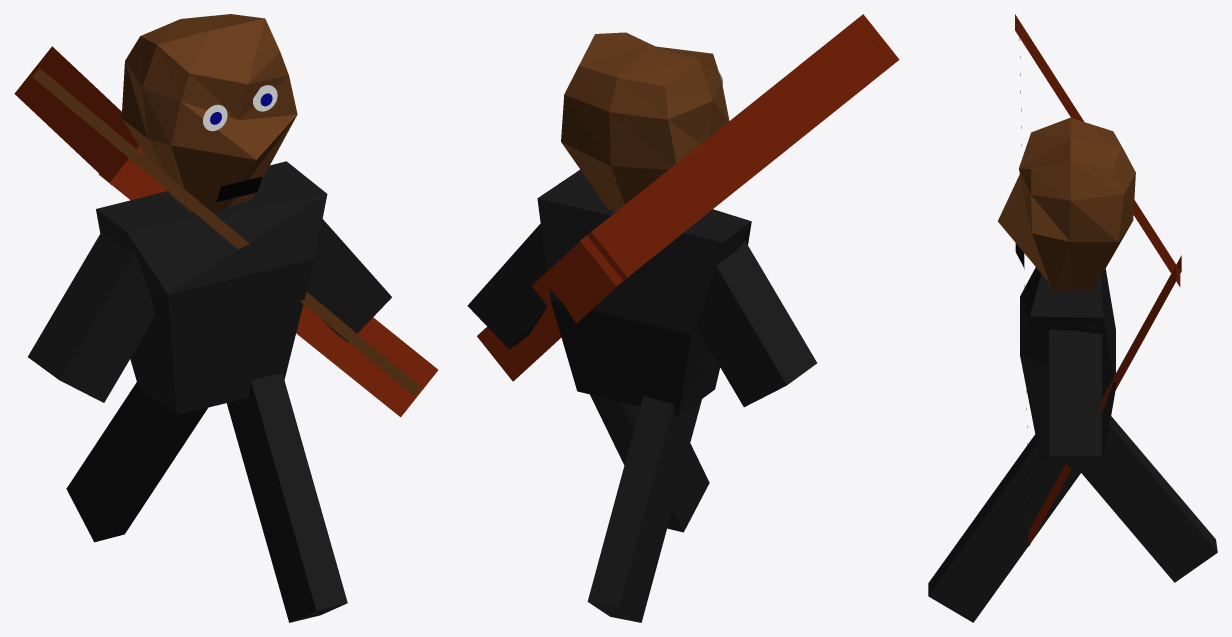
Rendered from heavyarcher3.obj.
3 renders of one model, left to right at view 1: azimuth 30°, elevation 25°; view 2: azimuth 150°, elevation 25°; view 3: azimuth 270°, elevation 25°, orthographic. The views are drawn at different scales.
Visible parts, largest first — view 1: Cube.001, Cube, Cube.005, Cube.003, Cube.004, Plane.001_Plane.002, Plane.002_Plane.003, Plane.003_Plane.004, Cube.002, Plane; view 2: Cube.001, Plane.002_Plane.003, Cube, Cube.004, Cube.003, Plane.001_Plane.002, Cube.002, Cube.005; view 3: Cube, Cube.005, Cube.004, Cube.001, Cube.002, Plane.001_Plane.002, Plane.002_Plane.003.
Boxes of the visible parts, left/top/right/bottom form: Cube.001: left=96, top=161, right=327, bottom=415; Cube: left=121, top=14, right=297, bottom=213; Cube.005: left=227, top=373, right=347, bottom=622; Cube.003: left=28, top=232, right=155, bottom=402; Cube.004: left=66, top=382, right=207, bottom=542; Plane.001_Plane.002: left=98, top=146, right=438, bottom=417; Plane.002_Plane.003: left=14, top=46, right=138, bottom=185; Plane.003_Plane.004: left=32, top=68, right=420, bottom=396; Cube.002: left=306, top=219, right=391, bottom=342; Plane: left=216, top=176, right=262, bottom=202; Cube.001: left=537, top=169, right=751, bottom=415; Plane.002_Plane.003: left=580, top=14, right=899, bottom=286; Cube: left=561, top=32, right=729, bottom=212; Cube.004: left=587, top=395, right=701, bottom=622; Cube.003: left=698, top=241, right=816, bottom=407; Plane.001_Plane.002: left=477, top=232, right=626, bottom=381; Cube.002: left=467, top=224, right=547, bottom=349; Cube.005: left=590, top=394, right=709, bottom=532; Cube: left=998, top=117, right=1135, bottom=291; Cube.005: left=928, top=434, right=1084, bottom=622; Cube.004: left=1081, top=416, right=1217, bottom=582; Cube.001: left=1020, top=267, right=1115, bottom=459; Cube.002: left=1049, top=330, right=1101, bottom=467; Plane.001_Plane.002: left=1028, top=255, right=1181, bottom=546; Plane.002_Plane.003: left=1015, top=14, right=1180, bottom=286.
Size of the model in its own units: 4.75 by 6.4 by 3.3.
